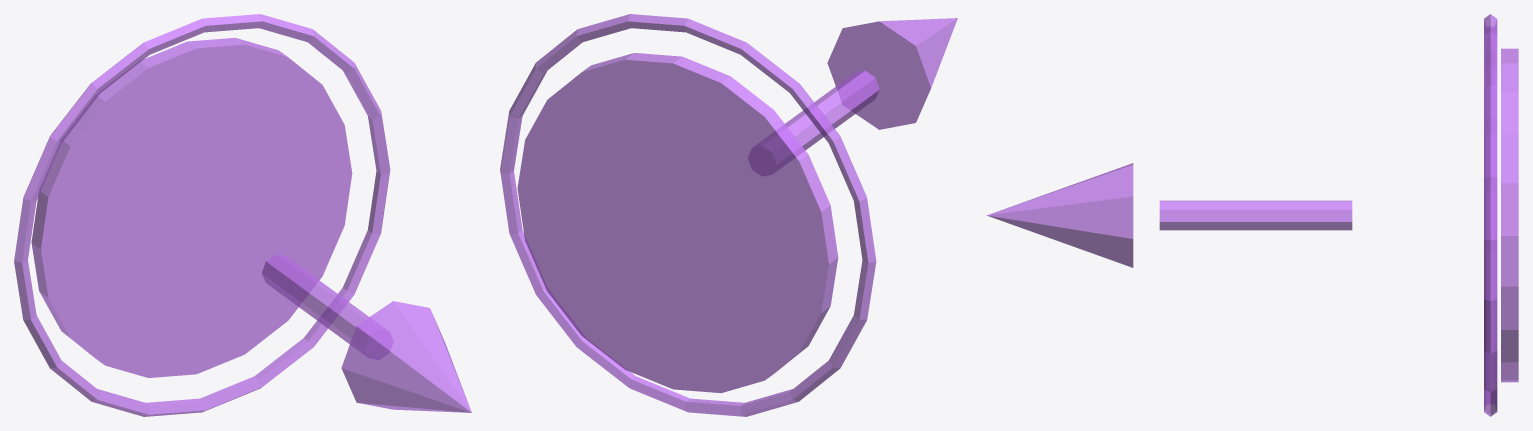
File: 07_patrol_waypoint_marker.glb
3 renders of one model, left to right at view 1: azimuth 30°, elevation 25°; view 2: azimuth 150°, elevation 25°; view 3: azimuth 270°, elevation 25°, orthographic. The views are drawn at different scales.
Visible parts, largest first — view 1: base_disc, base_ring, arrow_head, arrow_stem; view 2: base_disc, base_ring, arrow_head, arrow_stem; view 3: arrow_head, base_disc, arrow_stem, base_ring.
Part boxes in pixels (x1,y1,x2,y2): base_disc: [31, 37, 352, 377]; base_ring: [14, 14, 390, 416]; arrow_head: [341, 301, 471, 412]; arrow_stem: [261, 254, 392, 359]; base_disc: [517, 53, 838, 393]; base_ring: [500, 14, 876, 416]; arrow_head: [827, 18, 957, 129]; arrow_stem: [748, 70, 879, 175]; arrow_head: [986, 163, 1133, 267]; base_disc: [1501, 48, 1518, 382]; arrow_stem: [1159, 200, 1352, 230]; base_ring: [1484, 14, 1497, 416].
Size of the model in its own units: 1.16 by 1.16 by 1.52.
